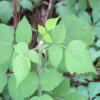Raspberry leaf: (65, 40, 100, 76), (12, 54, 31, 86), (41, 68, 65, 93), (48, 43, 63, 71), (51, 19, 67, 45), (27, 49, 41, 65), (12, 42, 29, 54)
